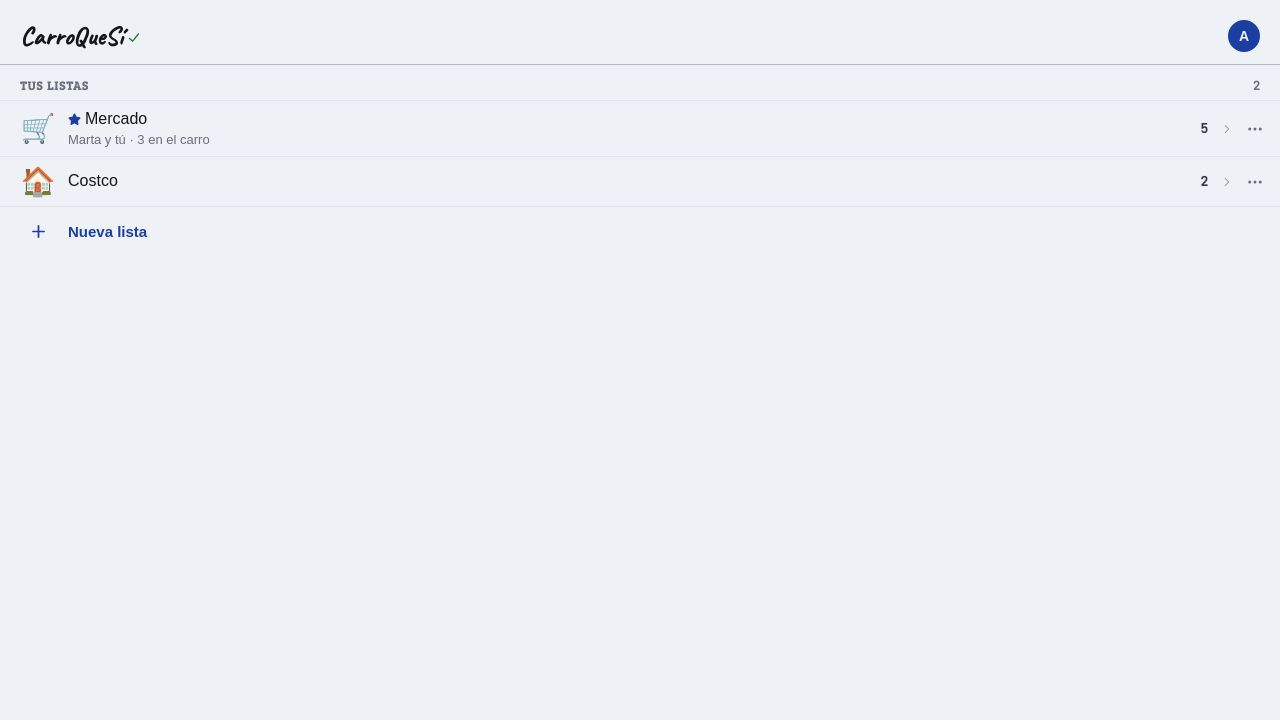
it: DashboardScreen — list management › rename failure reverts the name and shows a toast
Expected: the text "Mercado" is shown, [68,110,147,127]
Click the 1st button named "opciones": (1255,128) [1233,106,1277,150]
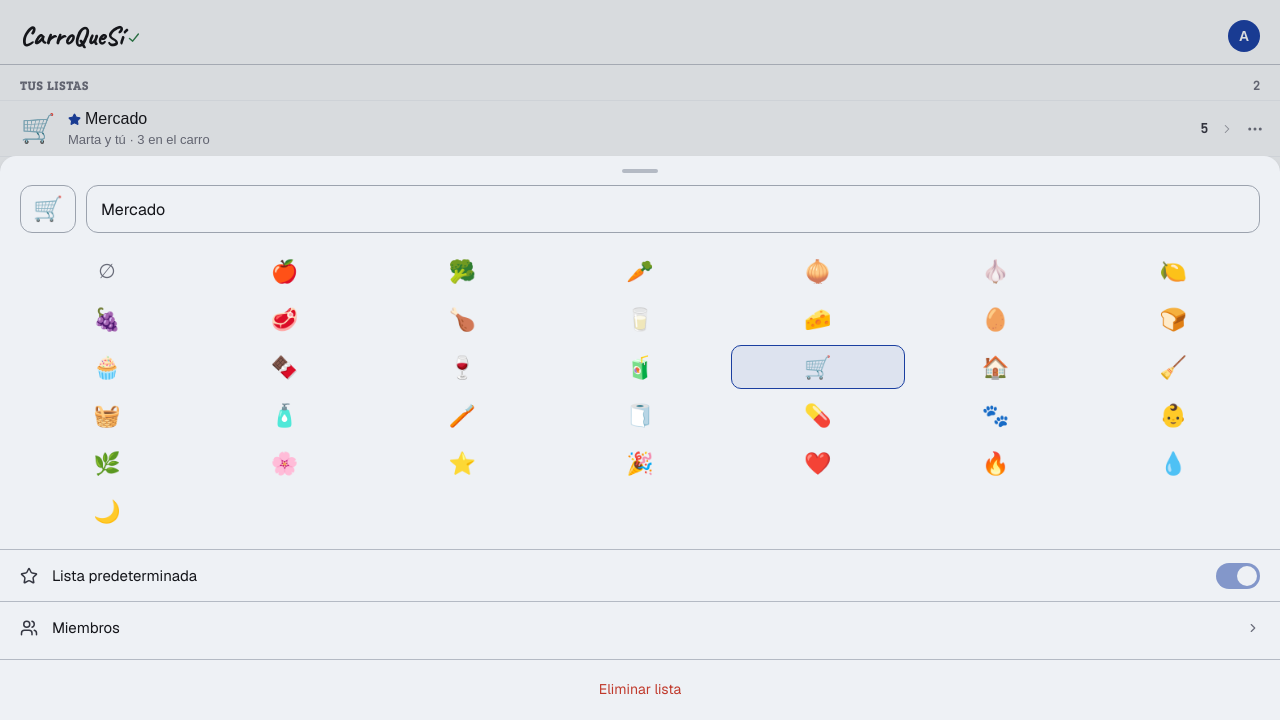
Replace the text in the field named "Nombre de la lista" with "Mercado Nuevo": (673,209) [86,185,1260,233]
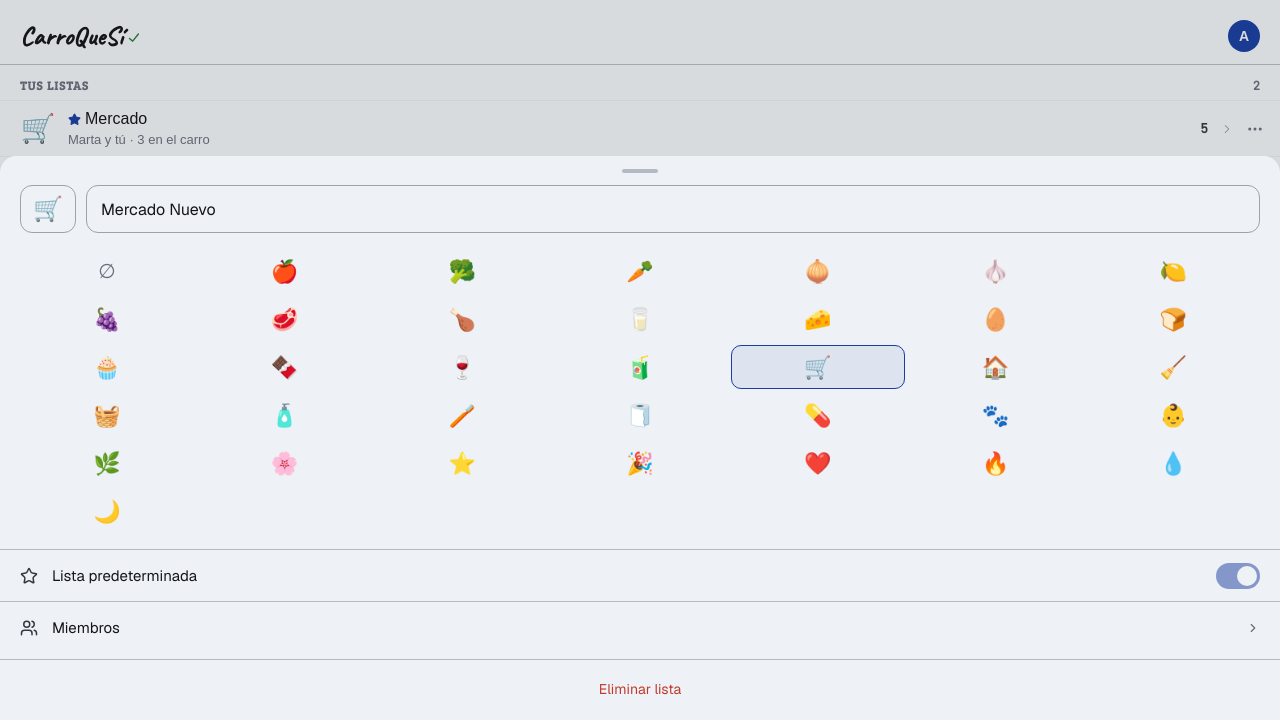
Leave the field named "Nombre de la lista", box [86,185,1260,233]
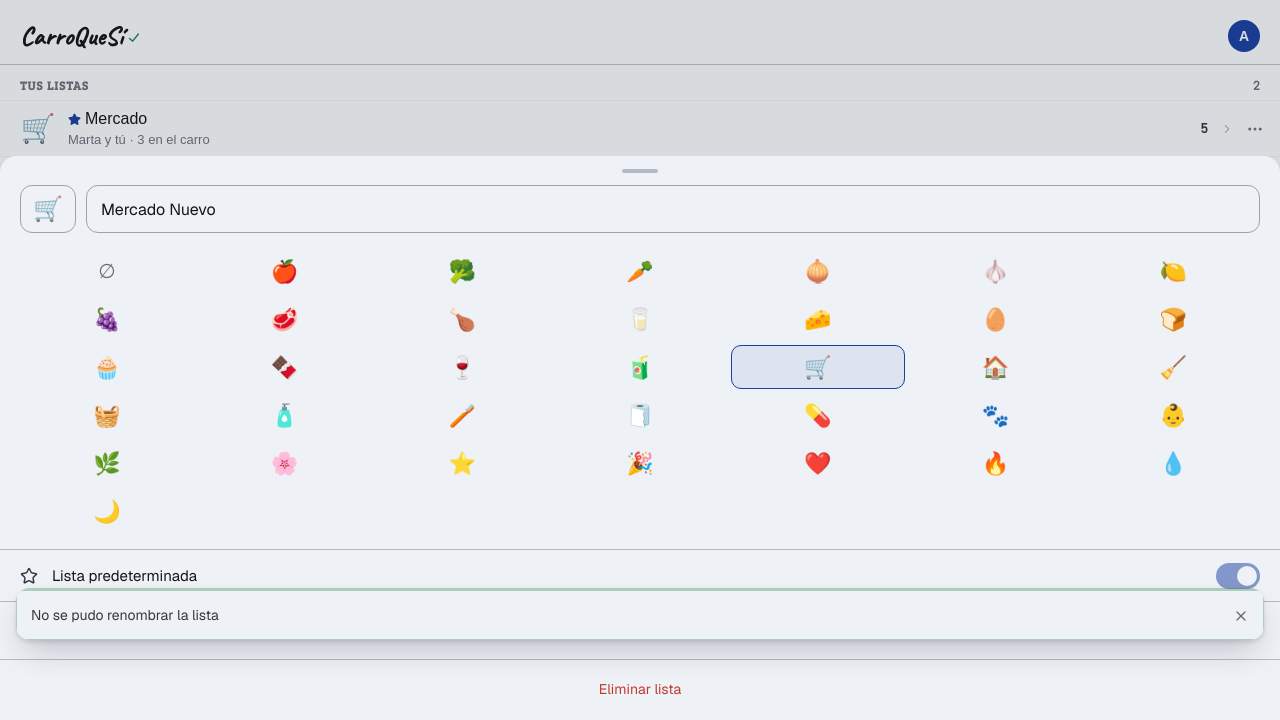
Expected: the text "Mercado" is shown, [68,110,147,127]
Result: the text "No se pudo renombrar la lista" is shown at [31,606,219,624]
